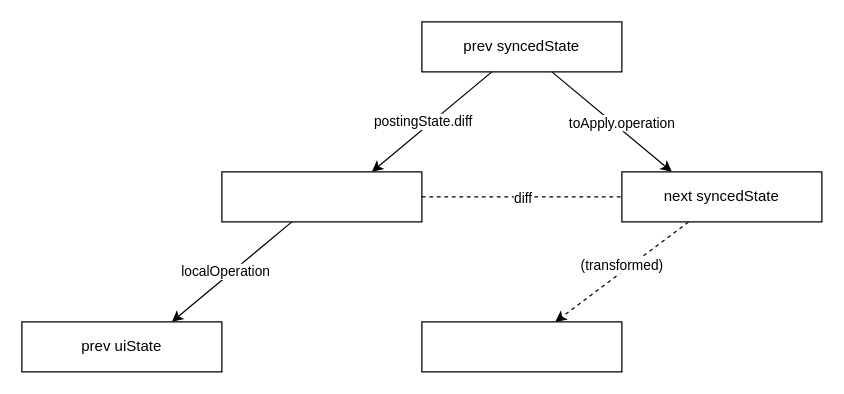
This 844x394 diagram has some shape labels left out. Here are the shapes that lost their labels. From the top down, the centre of each, then its label:
At pixel 321 196: "prev postingState.state".
At pixel 521 346: "next uiState".
